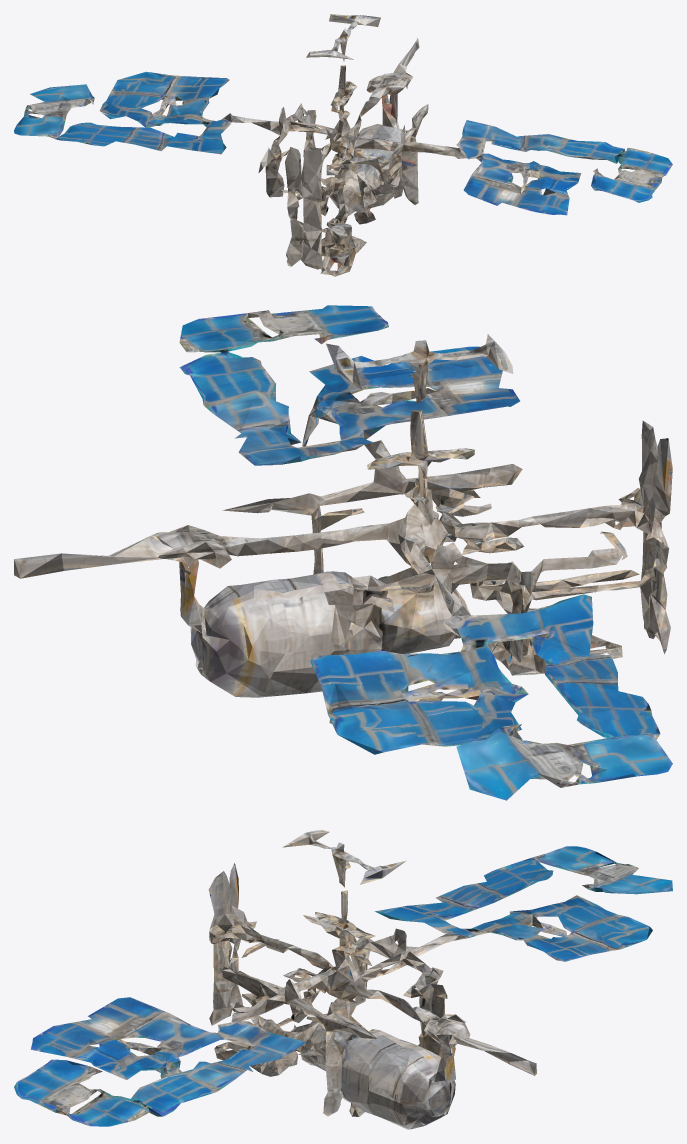
File: newspacestat.fbx
3 renders of one model, top to bottom at view 1: azimuth 30°, elevation 25°; view 2: azimuth 150°, elevation 25°; view 3: azimuth 270°, elevation 25°, orthographic. The views are drawn at different scales.
Visible parts, largest first — view 1: temp; view 2: temp; view 3: temp.
Part boxes in pixels (bbox=[...]): temp: bbox=[14, 14, 672, 276]; temp: bbox=[14, 305, 672, 800]; temp: bbox=[14, 829, 672, 1129].
Bounding box in the file's own units: 8.52 × 3.59 × 8.44.
Materials: 1 (1 with a texture image).
